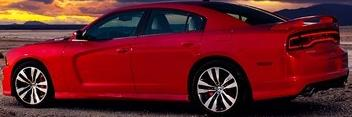back_view: (272, 16, 349, 95)
backlight: (276, 23, 347, 50)
side_glass: (69, 7, 209, 43)
